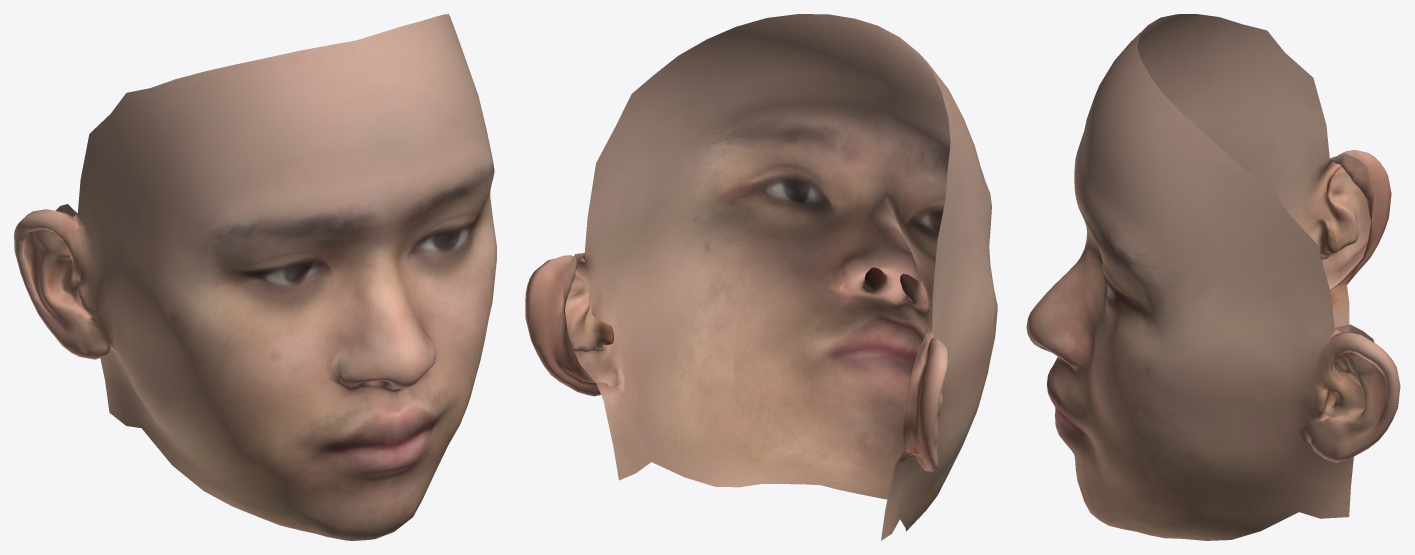
Rendered from viko_face.fbx.
The picture shows the model from 3 angles, left to right: view 1: azimuth 30°, elevation 25°; view 2: azimuth 150°, elevation 25°; view 3: azimuth 270°, elevation 25°; orthographic projection. The views are drawn at different scales.
Parts seen in each view (by area): view 1: avaturn_body.001; view 2: avaturn_body.001; view 3: avaturn_body.001.
Boxes of the visible parts, x1,y1,x2,y2 form: avaturn_body.001: (14, 14, 496, 540); avaturn_body.001: (525, 14, 997, 540); avaturn_body.001: (1026, 14, 1400, 540).
Bounding box in the file's own units: 18.8 × 20.96 × 15.02.
Materials: 1 (1 with a texture image).
